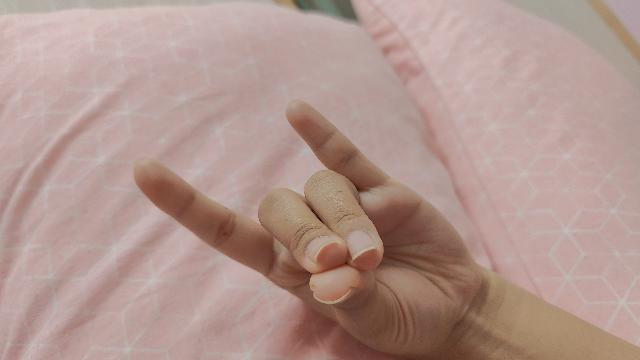sinhamukh: (133, 101, 565, 360)
